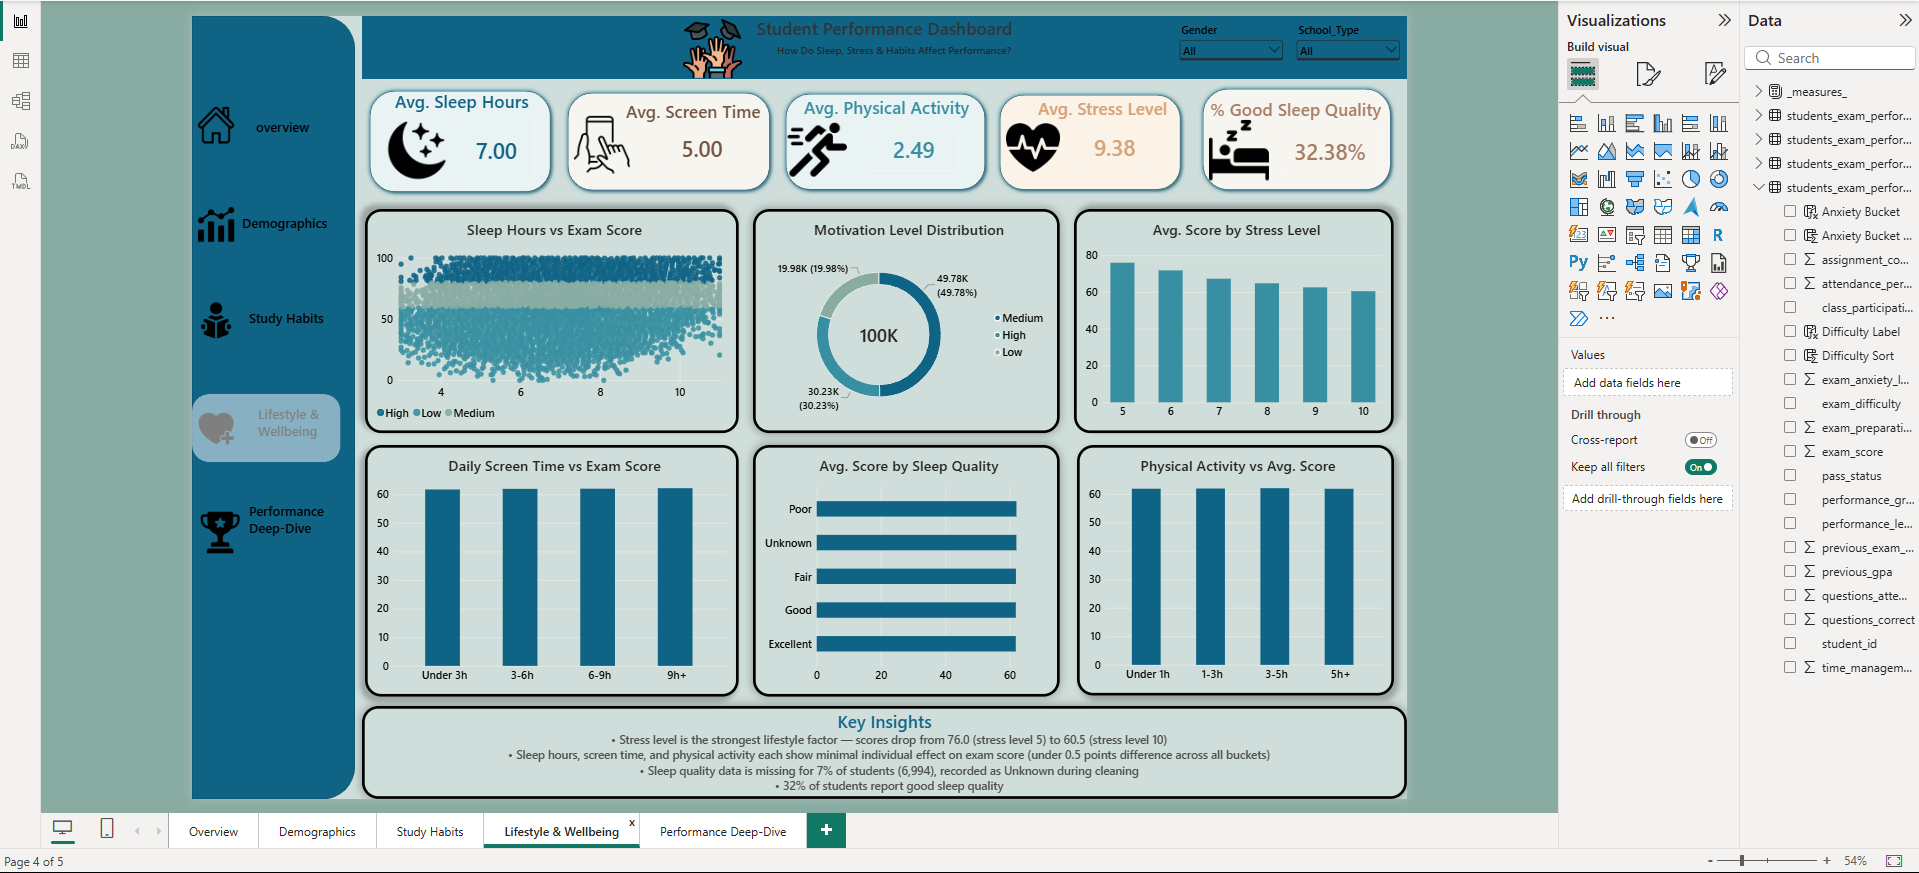

The page's visual inventory and layout, read from the dashboard file:
{"tool":"powerbi","page":{"name":"Lifestyle & Wellbeing","canvas":[2250,1450],"ordinal":3},"visuals":[{"type":"group","id":"g1","title":"Group 3","box":[0,0,301.7,1450],"z":0},{"type":"shape","box":[0,0,302,1450.4],"z":0,"group":"g2"},{"type":"group","id":"g2","title":"Group 2","box":[0,0,301.7,1450],"z":0,"group":"g1"},{"type":"group","id":"g3","title":"Group 5","box":[315.4,0,1935.4,116.9],"z":0,"group":"g10"},{"type":"image","box":[906.5,3.6,117.2,113.3],"z":0,"group":"g9"},{"type":"textbox","box":[995.8,50.4,610.8,51.5],"z":0,"group":"g3"},{"type":"shape","box":[1862.1,125.9,365.6,204.9],"z":0,"group":"g4"},{"type":"group","id":"g4","title":"Group 7","box":[1862.1,125.9,365.5,205.2],"z":0,"group":"g16"},{"type":"group","id":"g5","title":"Group 7","box":[321.2,128.8,352.5,204.9],"z":0,"group":"g12"},{"type":"shape","box":[321.2,128.8,352.5,204.9],"z":0,"group":"g5"},{"type":"group","id":"g6","title":"Group 7","box":[687.9,132.8,391.8,198.4],"z":0,"group":"g13"},{"type":"shape","box":[687.9,132.8,391.8,198.4],"z":0,"group":"g6"},{"type":"group","id":"g7","title":"Group 7","box":[1090.2,136.1,386.9,195.1],"z":0,"group":"g14"},{"type":"shape","box":[1090.2,136.1,386.9,195.1],"z":0,"group":"g7"},{"type":"group","id":"g8","title":"Group 7","box":[1487.9,136.2,352.5,193.5],"z":0,"group":"g15"},{"type":"shape","box":[1487.9,136.2,352.5,193.5],"z":0,"group":"g8"},{"type":"textbox","box":[117.4,189.8,133.1,55.6],"z":0,"group":"g11"},{"type":"textbox","box":[1879.3,150,329.3,48.3],"z":12,"group":"g16"},{"type":"group","id":"g9","title":"Group 4","box":[315.4,0,1935.4,116.9],"z":1000,"group":"g3"},{"type":"textbox","box":[315.4,0,1935.4,99.2],"z":1000,"group":"g9"},{"type":"group","id":"g10","title":"Group 6","box":[315.4,0,1935.4,116.9],"z":1000},{"type":"slicer","fields":{"Values":["students_exam_performance dim_students.school_type"]},"box":[2040.9,10.5,201.3,98.9],"z":1000,"group":"g10"},{"type":"textbox","box":[376.7,134.9,265.4,59.6],"z":1000,"group":"g12"},{"type":"textbox","box":[1133,146.3,327.6,46.6],"z":1000,"group":"g14"},{"type":"textbox","box":[1568.5,147.1,255.2,58.6],"z":1000,"group":"g15"},{"type":"textbox","box":[805.3,153.9,265.5,60.3],"z":1000,"group":"g13"},{"type":"shape","box":[9.8,156.5,264.3,144.3],"z":1000,"group":"g1"},{"type":"group","id":"g11","title":"Group 1","box":[10.7,159.3,264.7,852.2],"z":1000,"group":"g2"},{"type":"image","box":[10.7,159.3,67.3,86.1],"z":1000,"group":"g11"},{"type":"image","box":[705.8,176.3,106.9,125.9],"z":1000,"group":"g6"},{"type":"image","box":[1508.6,181.3,100,124.7],"z":1000,"group":"g8"},{"type":"image","box":[1883.1,181.3,111.5,134.4],"z":1000,"group":"g4"},{"type":"image","box":[345.9,192.6,144.2,111.5],"z":1000,"group":"g5"},{"type":"image","box":[1102,192.9,112.1,110.3],"z":1000,"group":"g7"},{"type":"slicer","fields":{"Values":["students_exam_performance dim_students.gender"]},"box":[1825.1,10.5,201.3,98.9],"z":2000,"group":"g10"},{"type":"group","id":"g12","title":"Group 8","box":[321.2,128.8,352.5,204.9],"z":2000},{"type":"cardVisual","fields":{"Data":["_measures_.Average Sleep Hours"]},"box":[494,184.9,142.6,126.2],"z":2000,"group":"g5"},{"type":"cardVisual","fields":{"Data":["_measures_.Average Stress Level"]},"box":[1640.2,195.4,139,94],"z":2000,"group":"g8"},{"type":"cardVisual","fields":{"Data":["_measures_.Average Screen Time"]},"box":[864.2,198.5,163.2,93.1],"z":2000,"group":"g6"},{"type":"cardVisual","fields":{"Data":["_measures_.Percent Good Sleep Quality"]},"box":[2013.7,206.6,185.2,87.7],"z":2000,"group":"g4"},{"type":"cardVisual","fields":{"Data":["_measures_.Average Physical Activity"]},"box":[1253.9,208.1,166.1,79],"z":2000,"group":"g7"},{"type":"textbox","box":[92.6,367.4,182.8,53.8],"z":2000,"group":"g11"},{"type":"shape","box":[7.6,506.5,266.1,120.5],"z":2000,"group":"g1"},{"type":"group","id":"g13","title":"Group 8","box":[687.9,132.8,391.8,198.4],"z":3000},{"type":"image","box":[10.7,349.5,67.3,71.8],"z":3000,"group":"g11"},{"type":"shape","box":[0,700,275.4,126.2],"z":3000,"group":"g1"},{"type":"group","id":"g14","title":"Group 8","box":[1090.2,136.1,386.9,195.1],"z":4000},{"type":"image","box":[10.7,509.1,67.3,109.4],"z":4000,"group":"g11"},{"type":"shape","box":[9.8,893.6,264.3,144.3],"z":4000,"group":"g1"},{"type":"group","id":"g15","title":"Group 8","box":[1487.9,136.2,351.7,193.1],"z":5000},{"type":"textbox","box":[105.7,543.2,157.9,41.3],"z":5000,"group":"g11"},{"type":"scatterChart","title":"Sleep Hours vs Exam Score","fields":{"Series":["students_exam_performance fact_exam_performance.performance_level"],"X":["students_exam_performance dim_lifestyle.sleep_hours"],"Y":["students_exam_performance fact_exam_performance.exam_score"]},"box":[320.8,356.6,692.5,415.1],"z":6000},{"type":"textbox","box":[121.8,720.9,124.3,100.5],"z":6000,"group":"g11"},{"type":"donutChart","title":"Motivation Level Distribution","fields":{"Category":["students_exam_performance dim_lifestyle.motivation_level"],"Y":["CountNonNull(students_exam_performance fact_exam_performance.student_id)"]},"box":[1039.6,356.6,567.9,415.1],"z":7000},{"type":"image","box":[10.7,704.7,67.3,116.6],"z":7000,"group":"g11"},{"type":"columnChart","title":"Avg. Score by Stress Level","fields":{"Category":["students_exam_performance dim_lifestyle.stress_level"],"Y":["_measures_.Average Exam Score"]},"box":[1634,356.6,592.5,415.1],"z":8000},{"type":"textbox","box":[105.7,900.3,157.9,111.2],"z":8000,"group":"g11"},{"type":"clusteredColumnChart","title":"Daily Screen Time vs Exam Score","fields":{"Category":["students_exam_performance dim_lifestyle.Screen Time Bucket"],"Y":["_measures_.Average Exam Score"]},"box":[320.8,794.3,692.5,466],"z":9000},{"type":"image","box":[10.7,900.3,81.9,111.2],"z":9000,"group":"g11"},{"type":"barChart","title":"Avg. Score by Sleep Quality","fields":{"Category":["students_exam_performance dim_lifestyle.Sleep Quality Label"],"Y":["_measures_.Average Exam Score"]},"box":[1039.6,794.3,567.9,466],"z":10000},{"type":"clusteredColumnChart","title":"Physical Activity vs Avg. Score","fields":{"Category":["students_exam_performance dim_lifestyle.Physical Activity Bucket"],"Y":["_measures_.Average Exam Score"]},"box":[1639.6,794.3,586.8,464.2],"z":11000},{"type":"group","id":"g16","title":"Group 9","box":[1862.1,125.9,365.5,205.2],"z":12000},{"type":"textbox","box":[315.4,1278.5,1935.4,172.3],"z":13000},{"type":"shape","box":[11.1,335.2,263,103.7],"z":13001}]}

Visuals, with their boxes on the page's 2250x1450 design canvas (x1, y1, x2, y2). These are canvas units, not pixel positions in the 1919x873 screenshot, which may show the page scaled, cropped or inside an application window:
"Group 3" group: x1=0, y1=0, x2=302, y2=1450
shape: x1=0, y1=0, x2=302, y2=1450
"Group 2" group: x1=0, y1=0, x2=302, y2=1450
"Group 5" group: x1=315, y1=0, x2=2251, y2=117
image: x1=906, y1=4, x2=1024, y2=117
textbox: x1=996, y1=50, x2=1607, y2=102
shape: x1=1862, y1=126, x2=2228, y2=331
"Group 7" group: x1=1862, y1=126, x2=2228, y2=331
"Group 7" group: x1=321, y1=129, x2=674, y2=334
shape: x1=321, y1=129, x2=674, y2=334
"Group 7" group: x1=688, y1=133, x2=1080, y2=331
shape: x1=688, y1=133, x2=1080, y2=331
"Group 7" group: x1=1090, y1=136, x2=1477, y2=331
shape: x1=1090, y1=136, x2=1477, y2=331
"Group 7" group: x1=1488, y1=136, x2=1840, y2=330
shape: x1=1488, y1=136, x2=1840, y2=330
textbox: x1=117, y1=190, x2=250, y2=245
textbox: x1=1879, y1=150, x2=2209, y2=198
"Group 4" group: x1=315, y1=0, x2=2251, y2=117
textbox: x1=315, y1=0, x2=2251, y2=99
"Group 6" group: x1=315, y1=0, x2=2251, y2=117
slicer - students_exam_performance dim_students.school_type: x1=2041, y1=10, x2=2242, y2=109
textbox: x1=377, y1=135, x2=642, y2=194
textbox: x1=1133, y1=146, x2=1461, y2=193
textbox: x1=1568, y1=147, x2=1824, y2=206
textbox: x1=805, y1=154, x2=1071, y2=214
shape: x1=10, y1=156, x2=274, y2=301
"Group 1" group: x1=11, y1=159, x2=275, y2=1012
image: x1=11, y1=159, x2=78, y2=245
image: x1=706, y1=176, x2=813, y2=302
image: x1=1509, y1=181, x2=1609, y2=306
image: x1=1883, y1=181, x2=1995, y2=316
image: x1=346, y1=193, x2=490, y2=304
image: x1=1102, y1=193, x2=1214, y2=303
slicer - students_exam_performance dim_students.gender: x1=1825, y1=10, x2=2026, y2=109
"Group 8" group: x1=321, y1=129, x2=674, y2=334
cardVisual - _measures_.Average Sleep Hours: x1=494, y1=185, x2=637, y2=311
cardVisual - _measures_.Average Stress Level: x1=1640, y1=195, x2=1779, y2=289
cardVisual - _measures_.Average Screen Time: x1=864, y1=198, x2=1027, y2=292
cardVisual - _measures_.Percent Good Sleep Quality: x1=2014, y1=207, x2=2199, y2=294
cardVisual - _measures_.Average Physical Activity: x1=1254, y1=208, x2=1420, y2=287
textbox: x1=93, y1=367, x2=275, y2=421
shape: x1=8, y1=506, x2=274, y2=627
"Group 8" group: x1=688, y1=133, x2=1080, y2=331
image: x1=11, y1=350, x2=78, y2=421
shape: x1=0, y1=700, x2=275, y2=826
"Group 8" group: x1=1090, y1=136, x2=1477, y2=331
image: x1=11, y1=509, x2=78, y2=618
shape: x1=10, y1=894, x2=274, y2=1038
"Group 8" group: x1=1488, y1=136, x2=1840, y2=329
textbox: x1=106, y1=543, x2=264, y2=584
"Sleep Hours vs Exam Score" scatterChart: x1=321, y1=357, x2=1013, y2=772
textbox: x1=122, y1=721, x2=246, y2=821
"Motivation Level Distribution" donutChart: x1=1040, y1=357, x2=1608, y2=772
image: x1=11, y1=705, x2=78, y2=821
"Avg. Score by Stress Level" columnChart: x1=1634, y1=357, x2=2226, y2=772
textbox: x1=106, y1=900, x2=264, y2=1012
"Daily Screen Time vs Exam Score" clusteredColumnChart: x1=321, y1=794, x2=1013, y2=1260
image: x1=11, y1=900, x2=93, y2=1012
"Avg. Score by Sleep Quality" barChart: x1=1040, y1=794, x2=1608, y2=1260
"Physical Activity vs Avg. Score" clusteredColumnChart: x1=1640, y1=794, x2=2226, y2=1258
"Group 9" group: x1=1862, y1=126, x2=2228, y2=331
textbox: x1=315, y1=1278, x2=2251, y2=1451
shape: x1=11, y1=335, x2=274, y2=439
